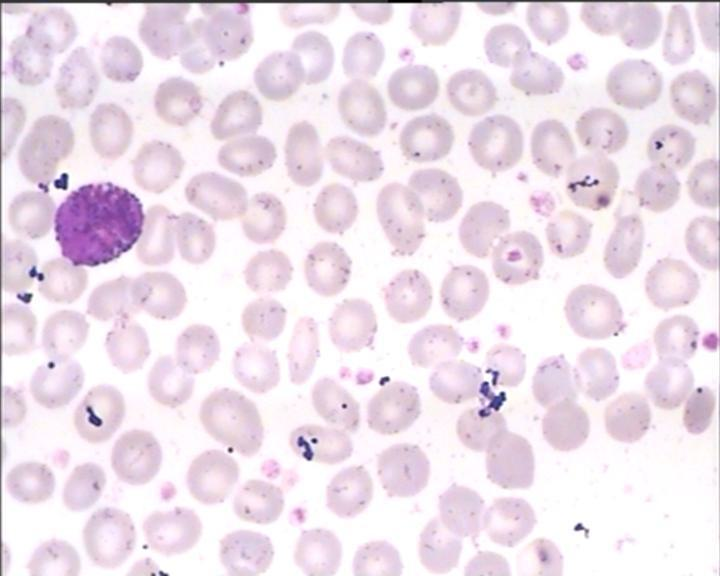baso: (49, 176, 149, 273)
